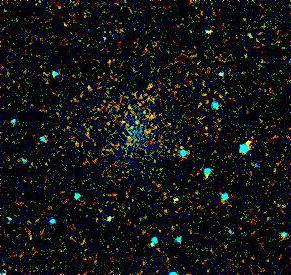star: (233, 129, 263, 159)
